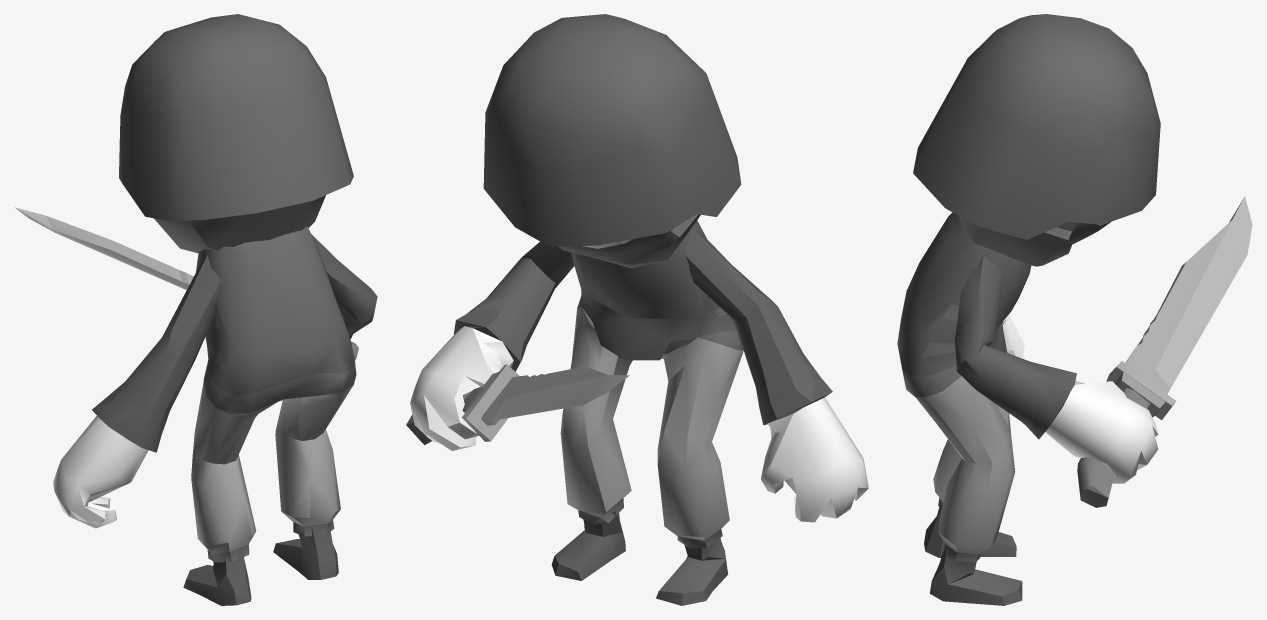
Rendered from emerald_cutter.glb.
3 views of the same model, side by side, from view 1: azimuth 30°, elevation 25°; view 2: azimuth 150°, elevation 25°; view 3: azimuth 270°, elevation 25° (orthographic). The views are drawn at different scales.
Parts seen in each view (by area): view 1: Body; view 2: Body; view 3: Body.
Part boxes in pixels (x1,y1,x2,y2): Body: (15, 14, 377, 605); Body: (406, 14, 868, 605); Body: (897, 14, 1252, 605).
Size of the model in its own units: 1.26 by 1.8 by 1.05.
Materials: 2 (1 with a texture image).
